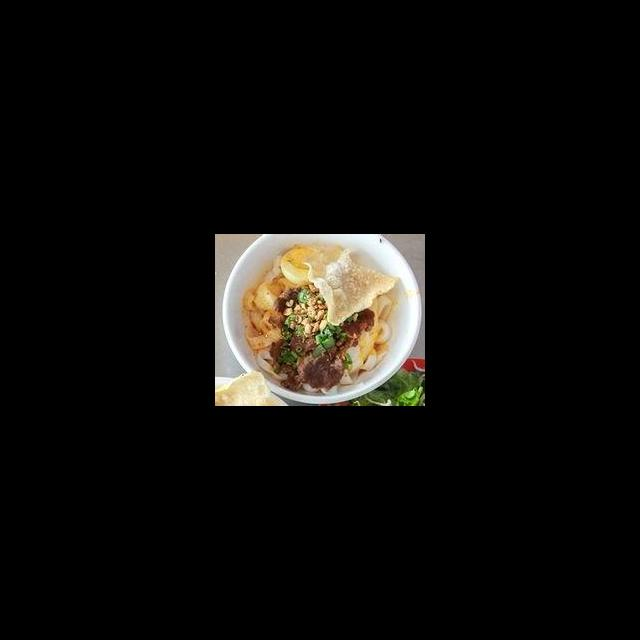banh da: (299, 244, 400, 328)
mi: (240, 253, 295, 382), (337, 291, 394, 387)
thit heo: (297, 306, 377, 392), (269, 331, 319, 393), (273, 285, 306, 318)
trung: (278, 244, 327, 285)
